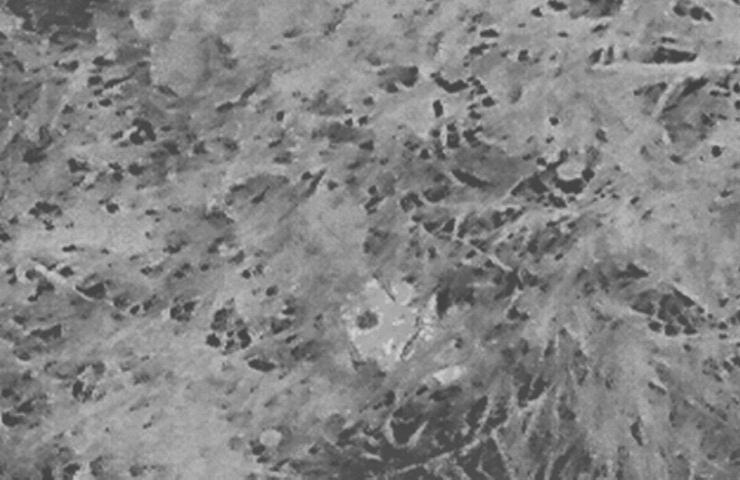landmines: (341, 268, 472, 391)
